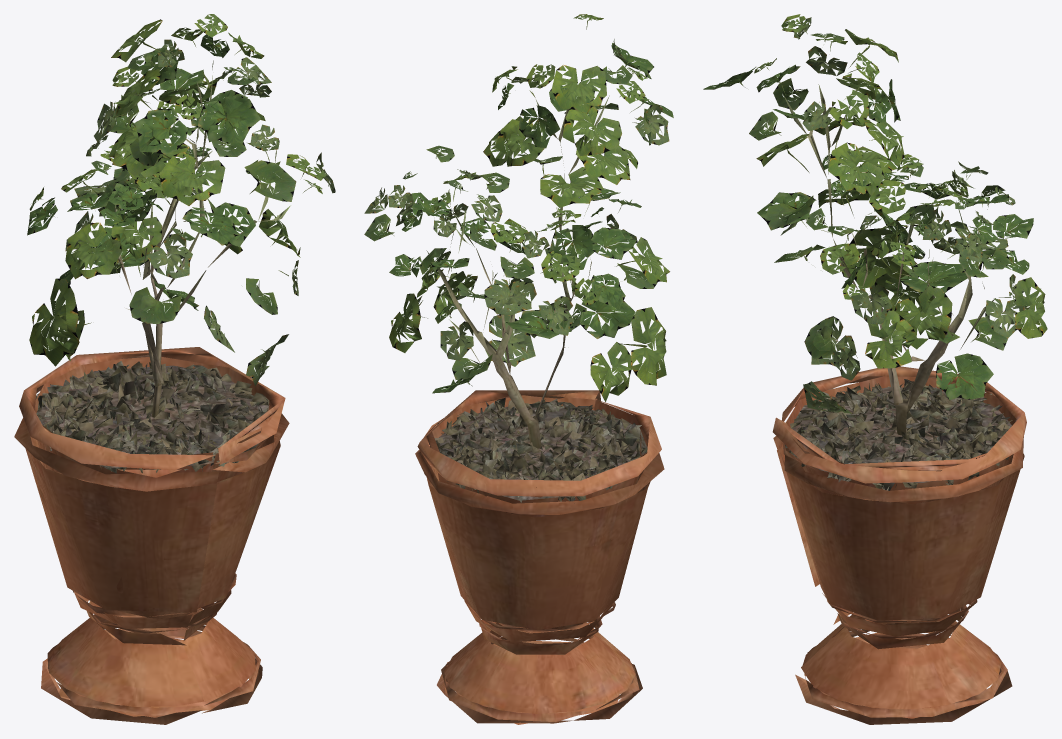
File: plant.glb
The picture shows the model from 3 angles, left to right: view 1: azimuth 30°, elevation 25°; view 2: azimuth 150°, elevation 25°; view 3: azimuth 270°, elevation 25°; orthographic projection. The views are drawn at different scales.
Visible parts, largest first — view 1: plant; view 2: plant; view 3: plant.
Boxes of the visible parts, x1,y1,x2,y2 form: plant: (14,14,335,724); plant: (364,14,673,724); plant: (703,14,1047,724).
Bounding box in the file's own units: 0.5854 × 1.34 × 0.6305.
2 materials, 2 textured.
